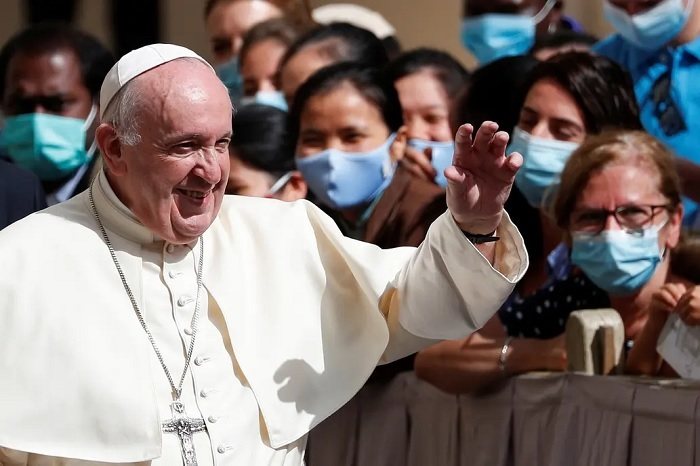surgical: (129, 90, 230, 238), (569, 170, 665, 292), (295, 90, 390, 207), (3, 53, 94, 171), (335, 83, 422, 200), (508, 82, 591, 191), (193, 148, 280, 250), (236, 44, 309, 143), (384, 77, 456, 173), (210, 6, 277, 86), (608, 0, 678, 50)
